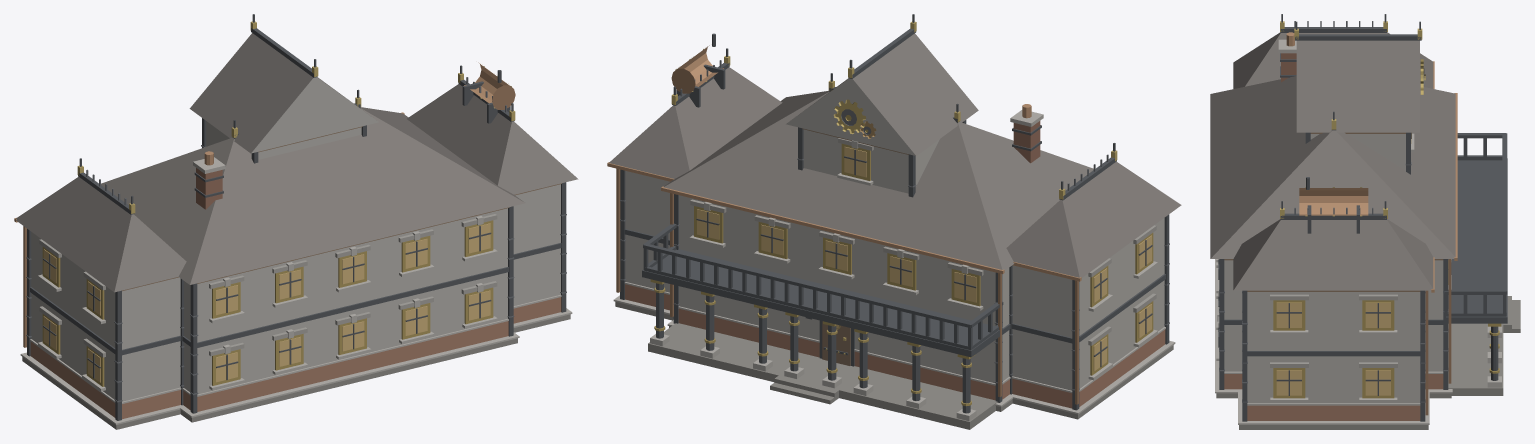
Rendered from casa-n07-1ab08e61.glb.
3 renders of one model, left to right at view 1: azimuth 30°, elevation 25°; view 2: azimuth 150°, elevation 25°; view 3: azimuth 270°, elevation 25°, orthographic.
Visible parts, largest first — view 1: casa_n07, casa_n07_glow; view 2: casa_n07, casa_n07_glow; view 3: casa_n07, casa_n07_glow.
Part boxes in pixels (left/top/right/bottom): casa_n07: left=14, top=14, right=578, bottom=429; casa_n07_glow: left=43, top=223, right=490, bottom=382; casa_n07: left=607, top=14, right=1181, bottom=429; casa_n07_glow: left=697, top=147, right=1151, bottom=371; casa_n07: left=1210, top=14, right=1520, bottom=429; casa_n07_glow: left=1276, top=133, right=1448, bottom=395.
Bounding box in the file's own units: 18.8 × 11.39 × 10.8.
